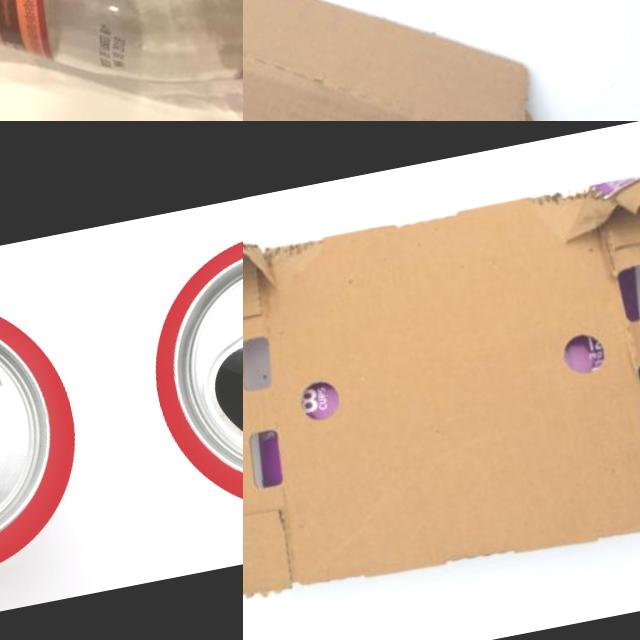garrafa de vidro: (0, 0, 243, 121)
lata: (155, 226, 243, 503), (0, 294, 70, 572)
papelão: (243, 121, 640, 620), (243, 0, 575, 121)
